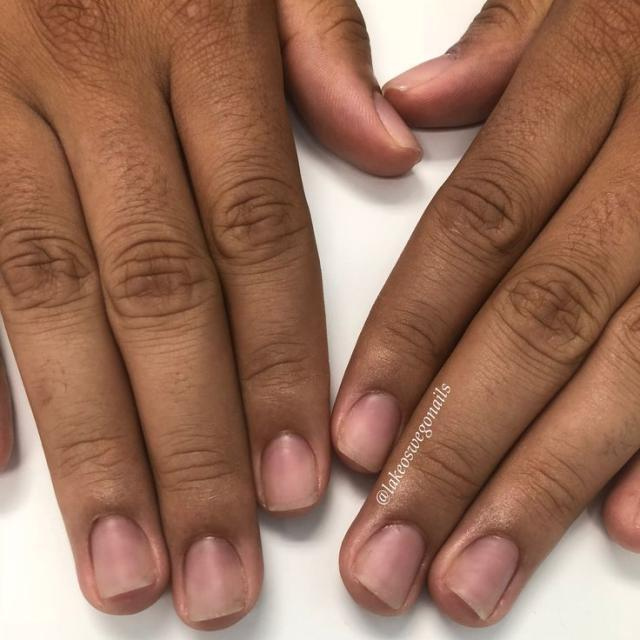Fingernail: (445, 535, 519, 620), (353, 524, 424, 608), (90, 518, 156, 599), (184, 538, 245, 620), (338, 393, 399, 471), (262, 434, 318, 510), (377, 95, 417, 148), (387, 56, 449, 89)
